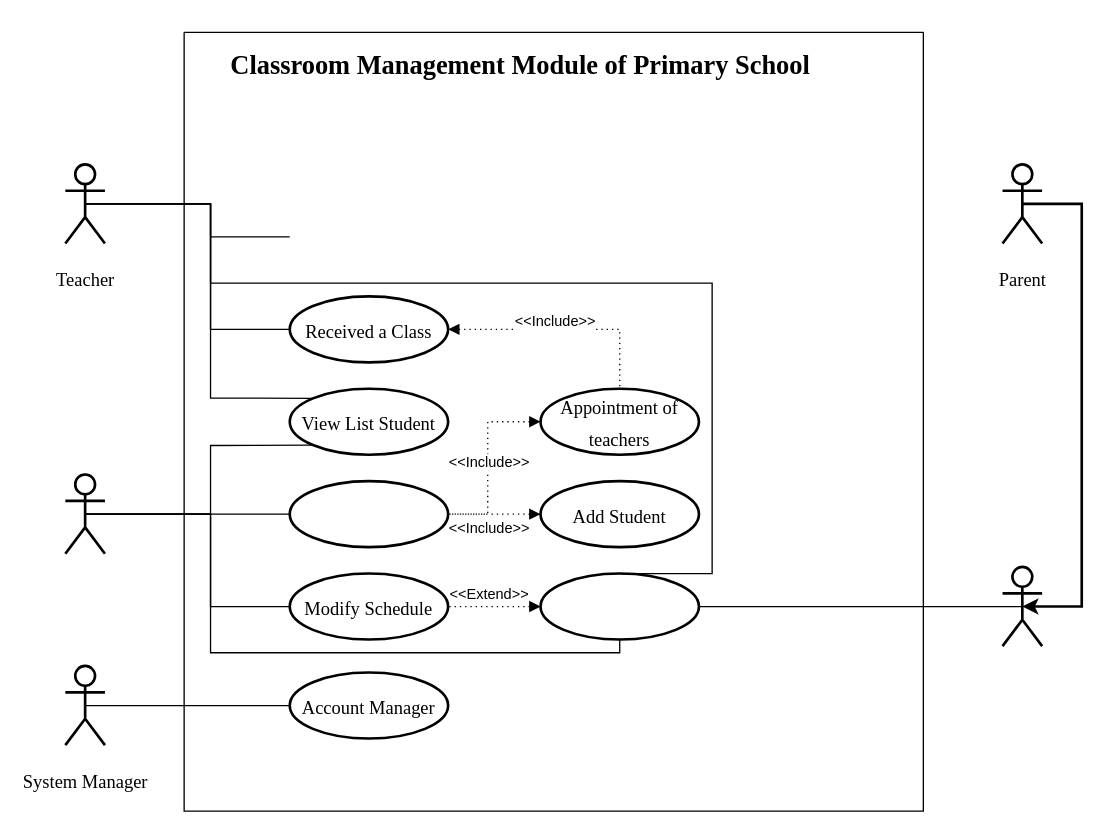
This 1115x834 diagram has some shape labels left out. The shapes that lost their labels are listed below. From the top down, each one's centre as x and y in pixels, then its label:
the point at 84,513: Principal
the point at 368,513: Create Class
the point at 619,606: View Schedule
the point at 1022,606: Student
